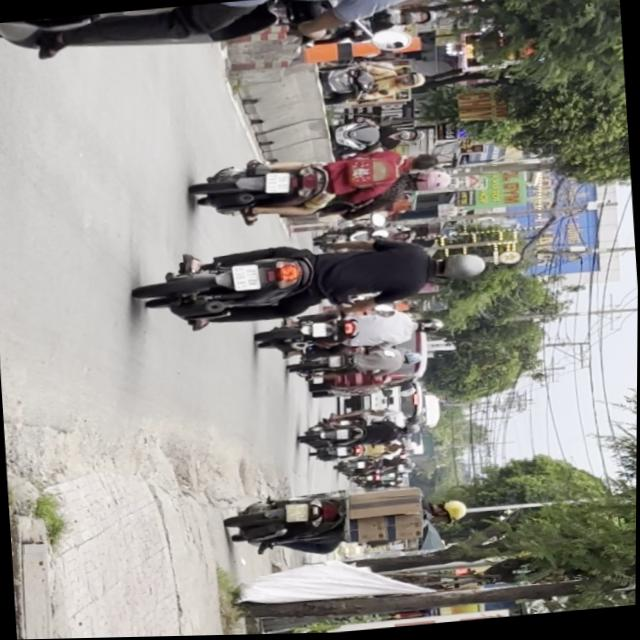helmet: (433, 250, 489, 281), (404, 167, 453, 193), (429, 497, 470, 524)
licenseplate: (136, 221, 494, 335), (188, 140, 454, 231), (225, 475, 473, 563)
motorcyclist: (405, 152, 442, 172)
nohelmet: (232, 262, 263, 291), (264, 170, 291, 195), (286, 503, 310, 522)
